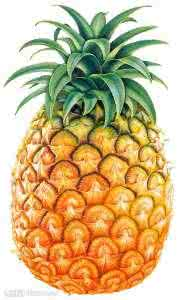pineapple: (5, 1, 175, 294)
